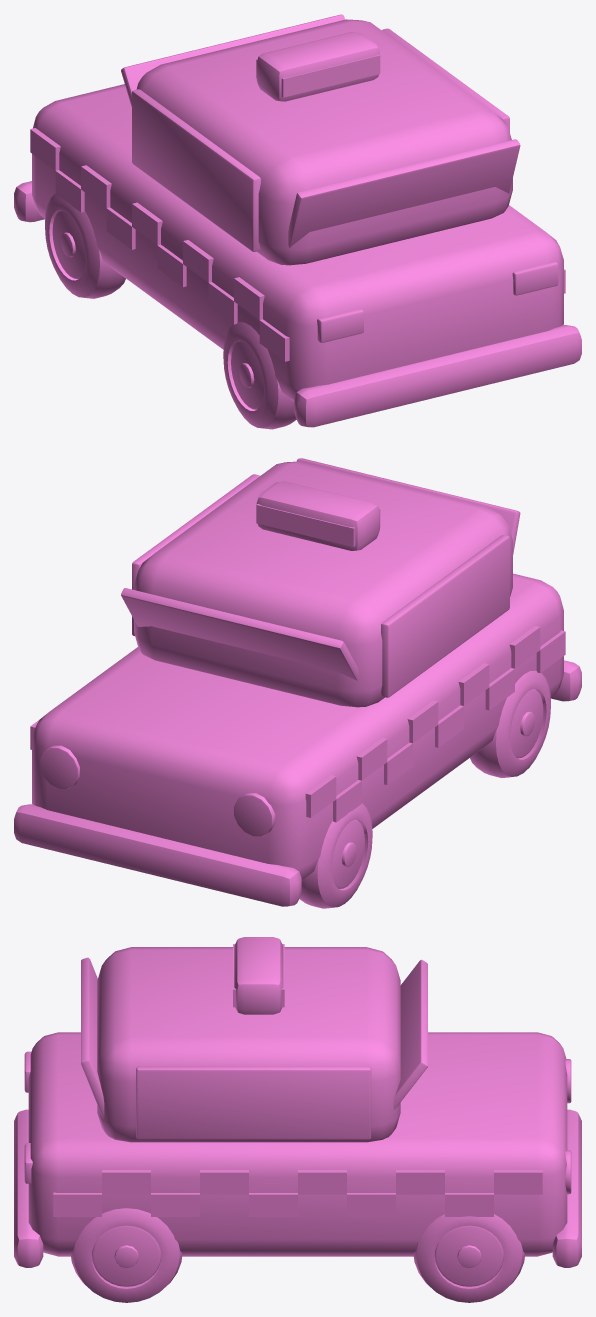
File: Traffic_Taxi.fbx
3 views of the same model, one above another, from view 1: azimuth 30°, elevation 25°; view 2: azimuth 150°, elevation 25°; view 3: azimuth 270°, elevation 25° (orthographic). The views are drawn at different scales.
Parts seen in each view (by area): view 1: Paint, Body; view 2: Paint, Body; view 3: Paint, Body.
Part boxes in pixels (<box>): Paint: <box>32,19,563,401</box>; Body: <box>14,14,581,429</box>; Paint: <box>32,461,563,880</box>; Body: <box>14,458,581,908</box>; Paint: <box>28,947,567,1256</box>; Body: <box>14,937,581,1302</box>.
Bounding box in the file's own units: 6.45 × 6.4 × 11.6.
1 material, 1 textured.
